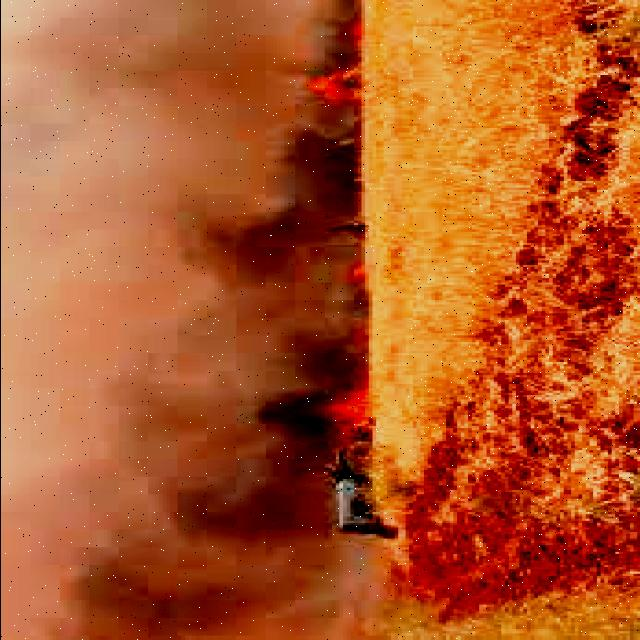api: (316, 69, 366, 114), (325, 393, 376, 427)
asap: (1, 18, 314, 640)
